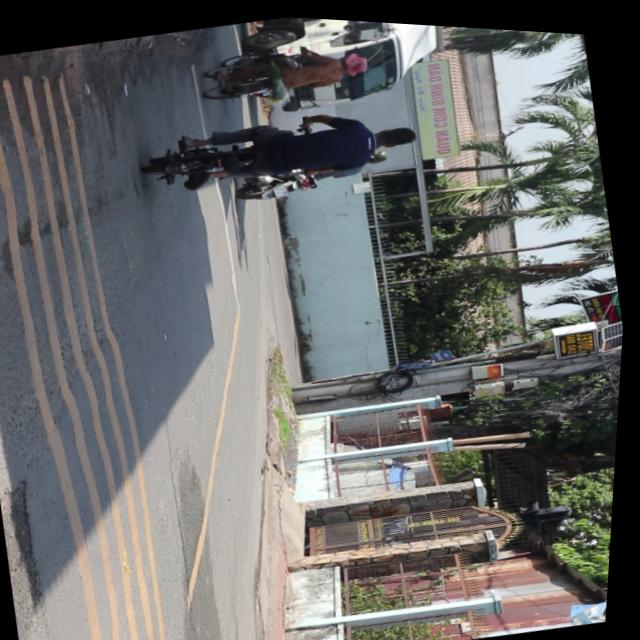licenseplate: (137, 83, 427, 213)
motorcyclist: (373, 118, 421, 150)
